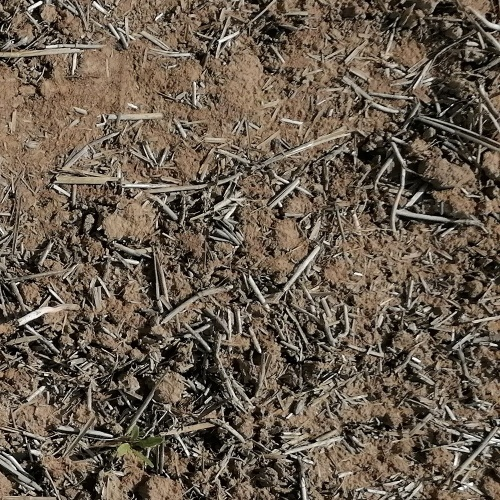beet: (114, 427, 164, 470)
